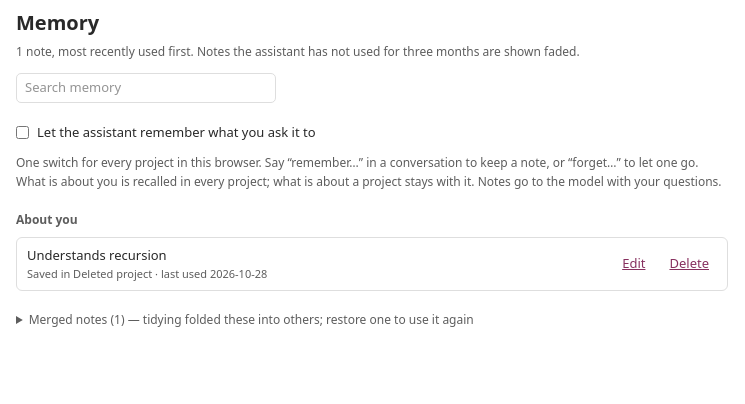
Test: memory page › lists merged notes apart and restores one
Expected: the element "About you" does not show "Stuck on recursion", [16,211,728,291]
Click the heading "Merged notes (1)" at (251, 320), box [29,311,474,328]
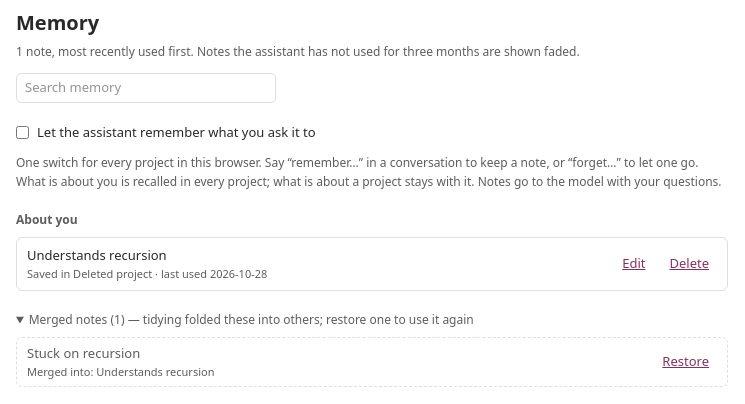
Click the button with aria-label "Restore “Stuck on recursion”" at (686, 362), box [654,344,717,380]
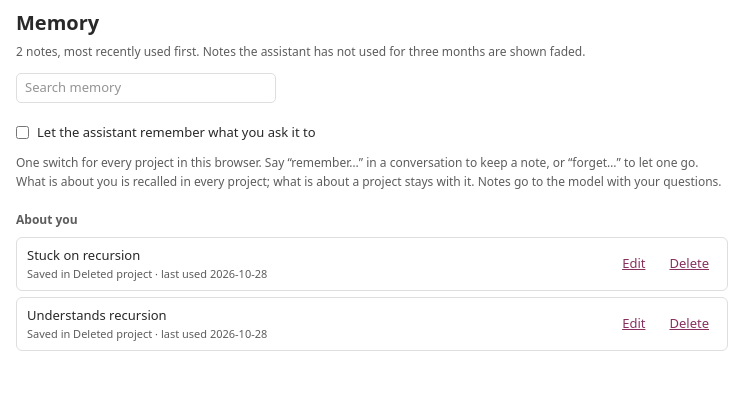
Now the element "About you" shows "Stuck on recursion", box [27,246,140,264]
